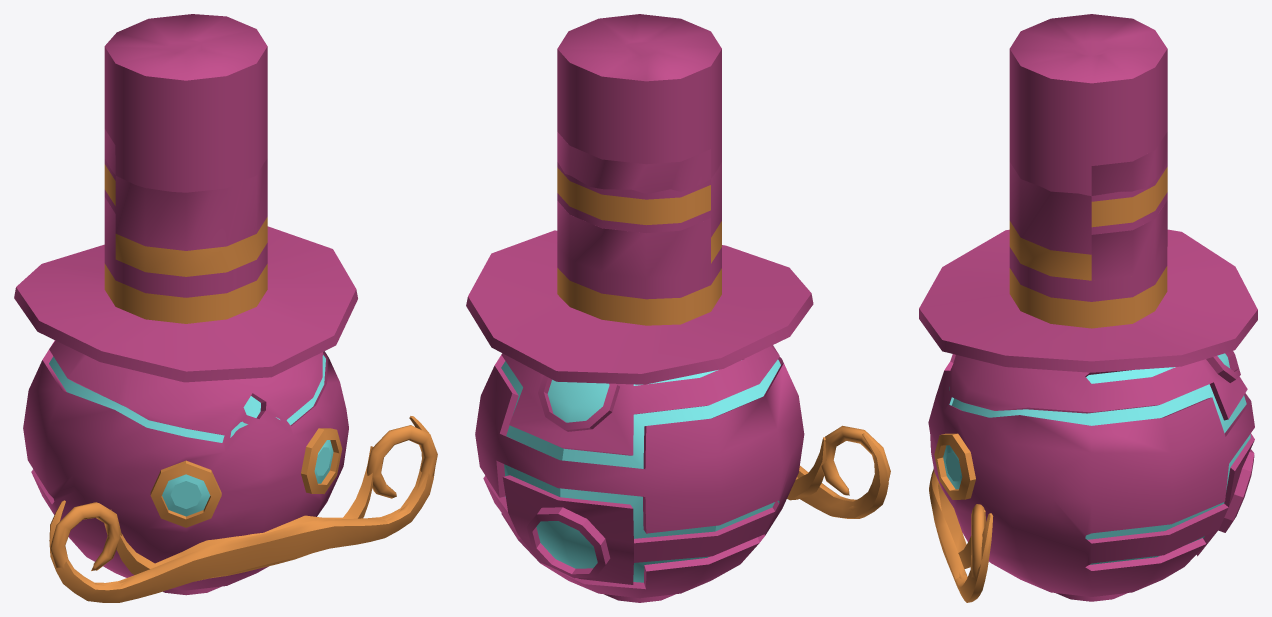
The model's file is Shermans.fbx.
3 renders of one model, left to right at view 1: azimuth 30°, elevation 25°; view 2: azimuth 150°, elevation 25°; view 3: azimuth 270°, elevation 25°, orthographic.
Parts seen in each view (by area): view 1: Sherman_Lv1, Sherman_Lv3, Sherman_Lv2; view 2: Sherman_Lv1, Sherman_Lv3, Sherman_Lv2; view 3: Sherman_Lv1, Sherman_Lv3, Sherman_Lv2.
Boxes of the visible parts, x1,y1,x2,y2 form: Sherman_Lv1: [14, 197, 373, 595]; Sherman_Lv3: [50, 14, 437, 586]; Sherman_Lv2: [49, 129, 435, 602]; Sherman_Lv1: [466, 201, 826, 602]; Sherman_Lv3: [557, 14, 890, 510]; Sherman_Lv2: [557, 132, 888, 518]; Sherman_Lv1: [919, 200, 1257, 601]; Sherman_Lv3: [931, 14, 1167, 584]; Sherman_Lv2: [929, 132, 1167, 602].
Bounding box in the file's own units: 186 × 246 × 141.
